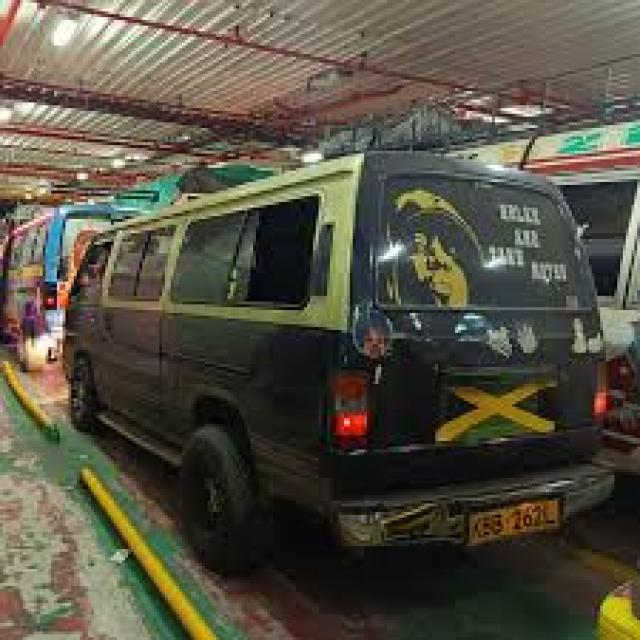matatu: (40, 110, 638, 626)
